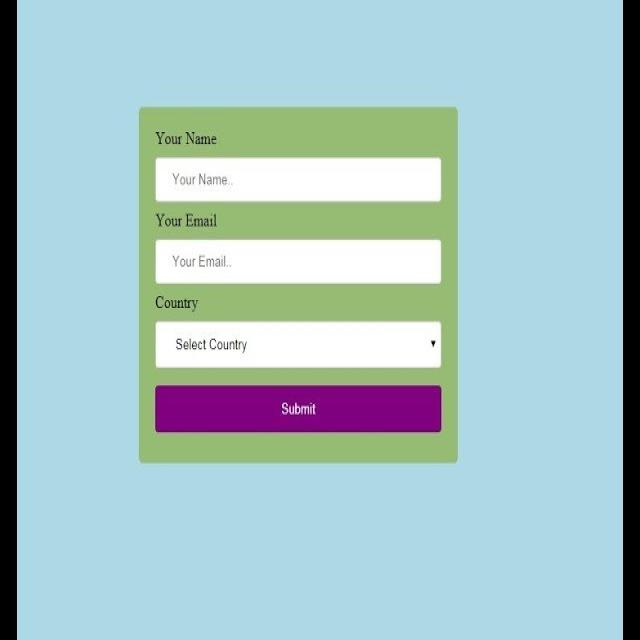buttons: (156, 384, 441, 432)
dropdown: (429, 337, 438, 348)
input-fields: (156, 236, 443, 286), (154, 158, 442, 202), (162, 325, 440, 367)
